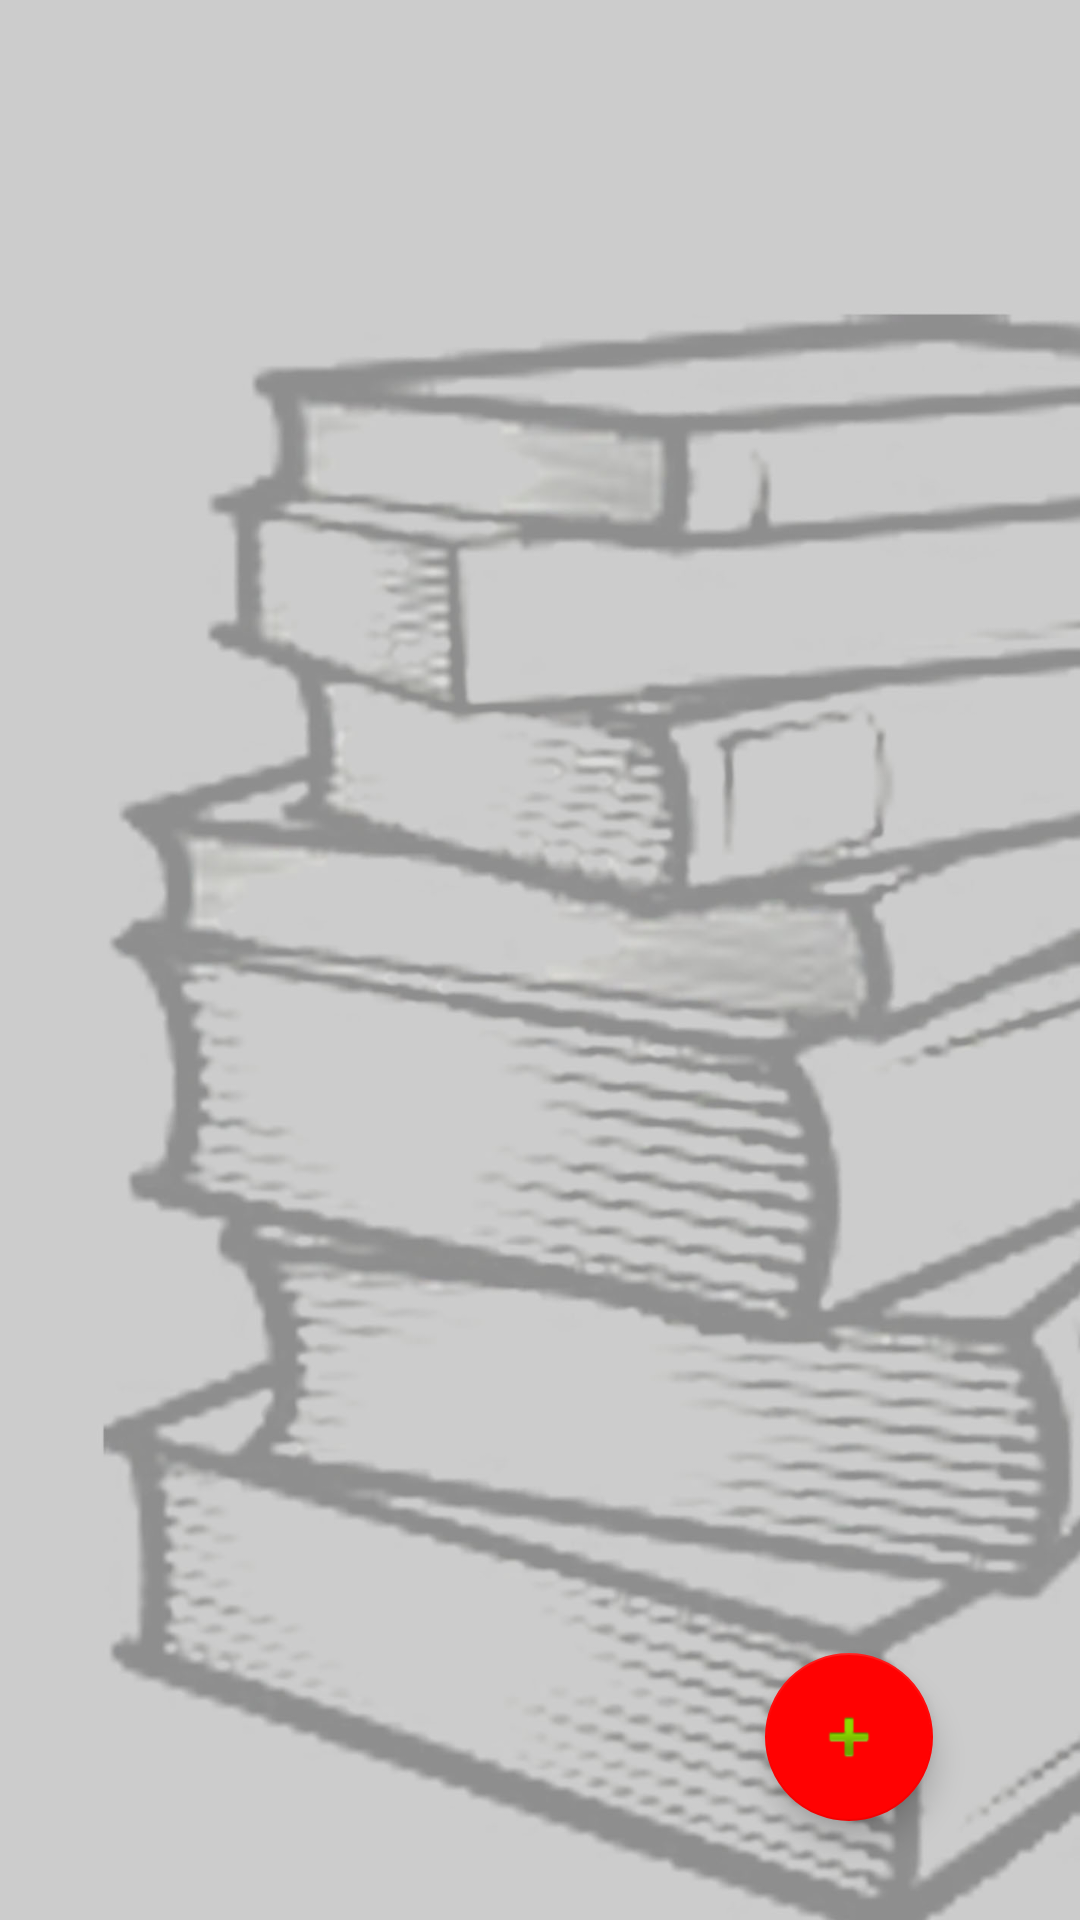

Icon click points for this 1080 × 1920 phone screenshot, format (x,y):
add: (849,1737)
